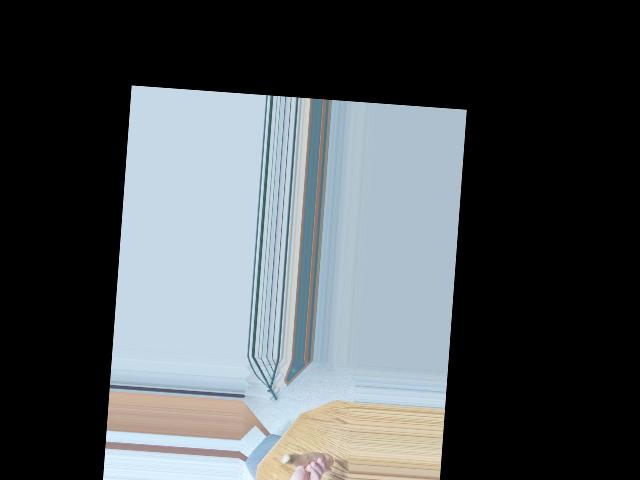sweet_potato: (280, 449, 332, 473)
